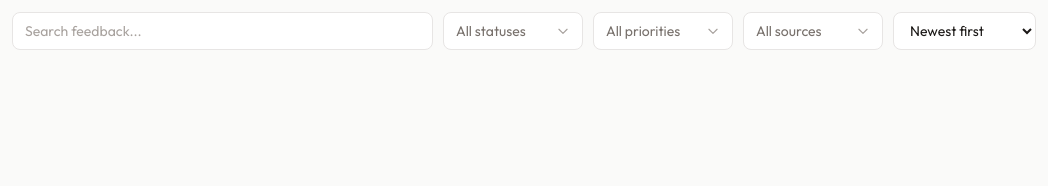
Test: FeedbackFilterBar › supports selecting multiple priority values
Click the button with aria-label "Filter by priority".
click(663, 31)  # box [593,12,733,50]
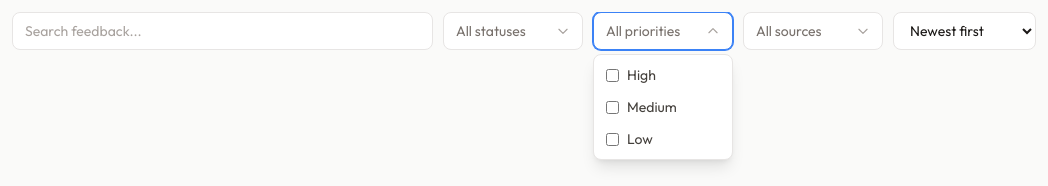
Click the checkbox labelled "High".
click(612, 75)  # box [606,68,619,82]
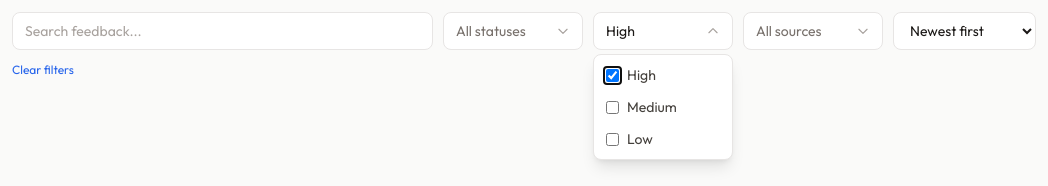
Click the checkbox labelled "Medium".
click(612, 107)  # box [606,100,619,114]
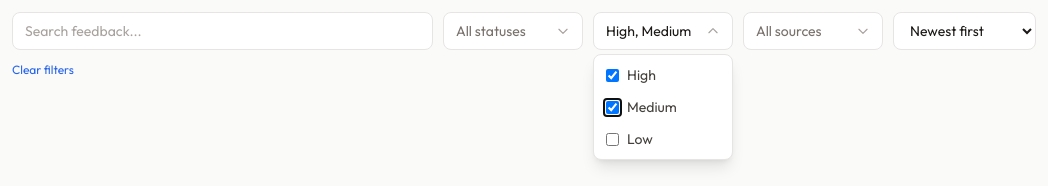
Result: the button with aria-label "Filter by priority" reads "High, Medium" at [593,12,733,50]
